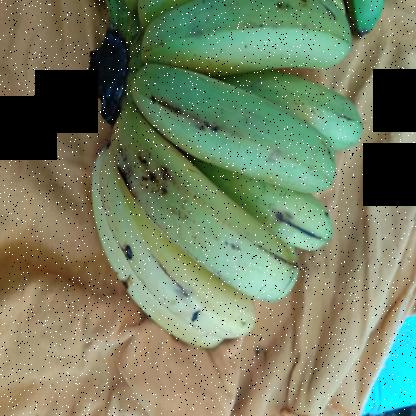ripe: (107, 123, 307, 307), (137, 71, 332, 202)
